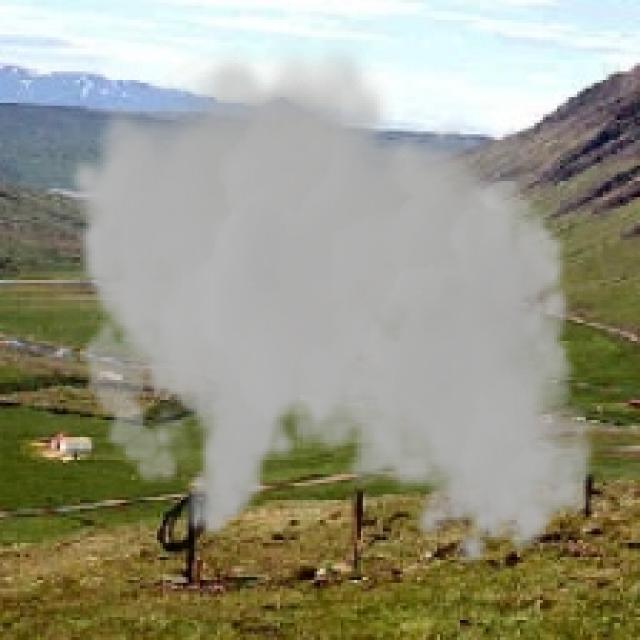smoke: (66, 34, 597, 572)
